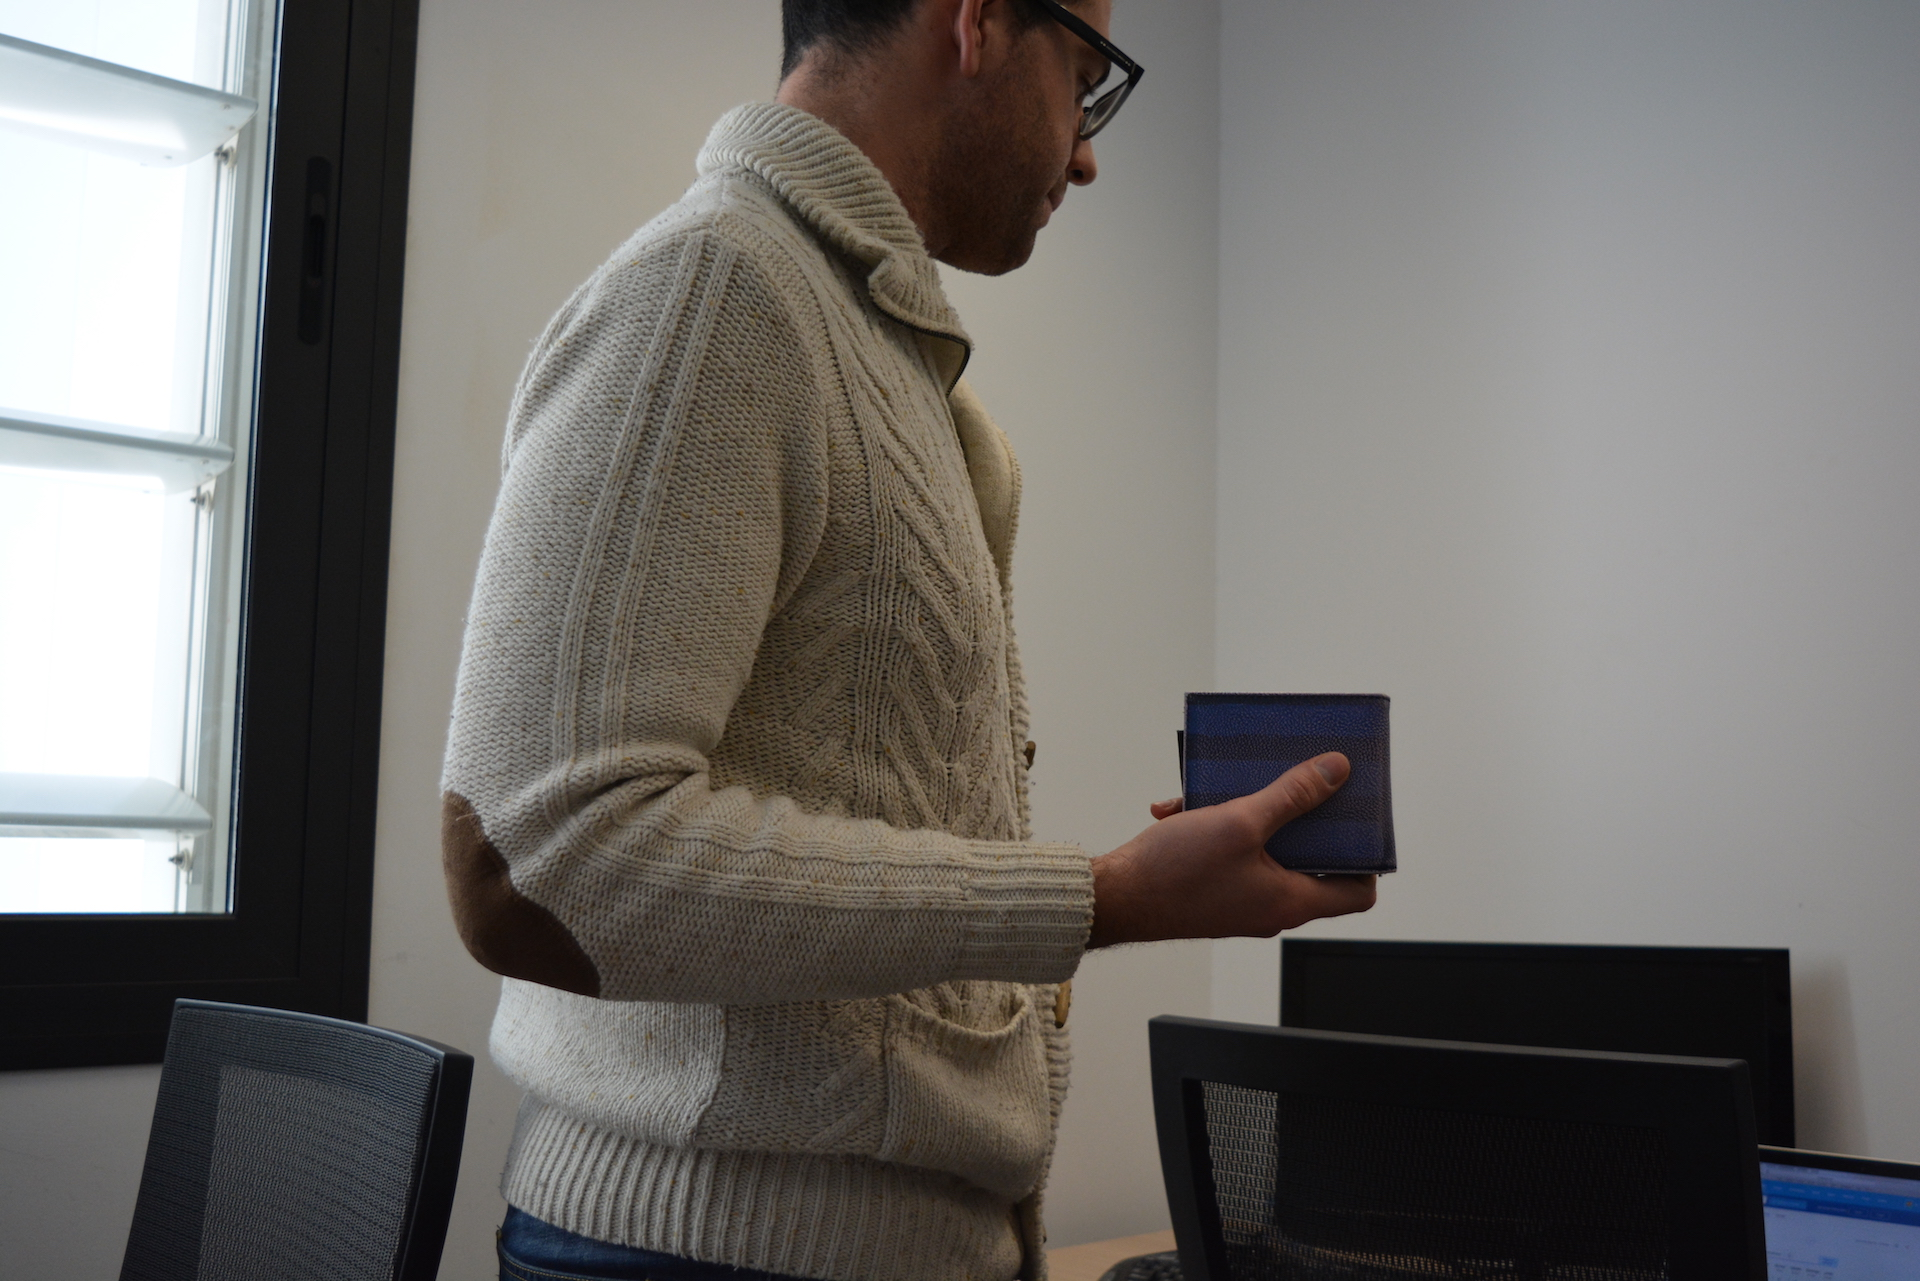monedero: (1175, 689, 1400, 884)
